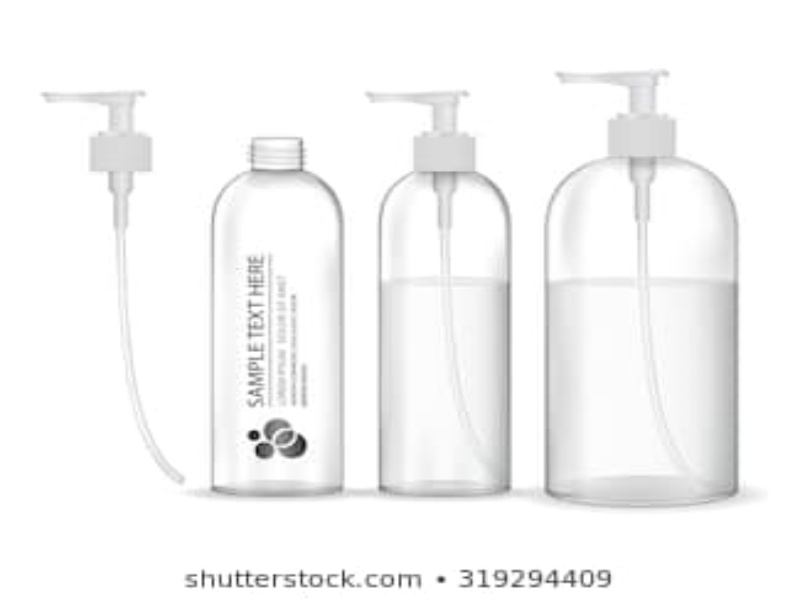shampoo-bottle: (539, 58, 738, 508), (361, 83, 516, 500), (204, 136, 349, 500)
